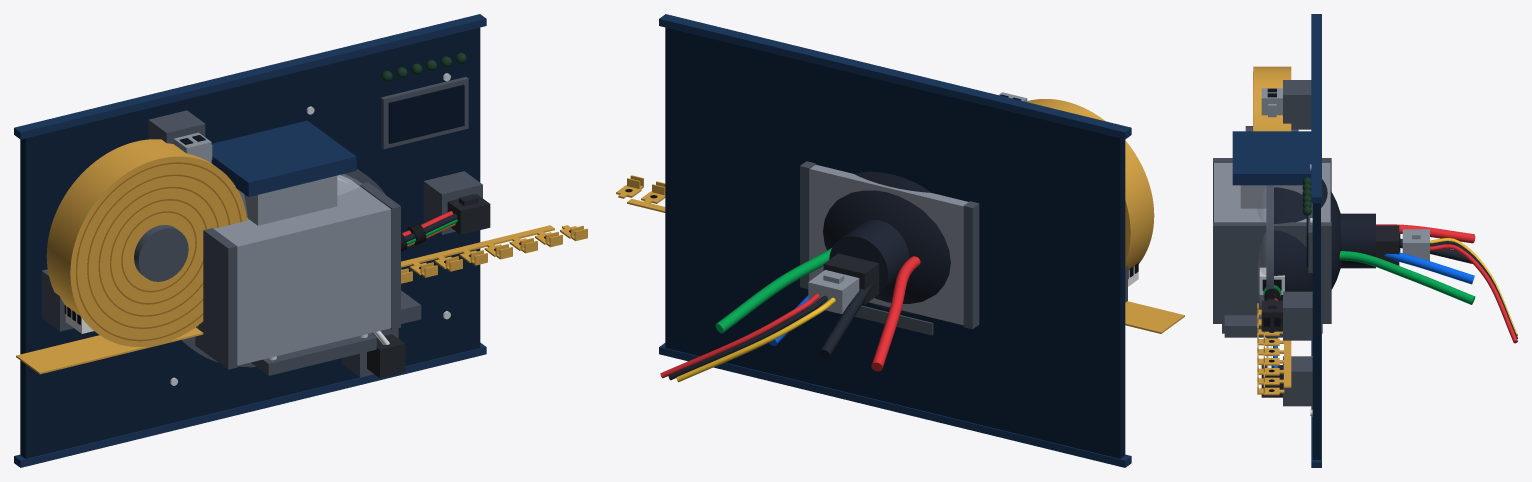
The model's file is daepl-story.glb.
The picture shows the model from 3 angles, left to right: view 1: azimuth 30°, elevation 25°; view 2: azimuth 150°, elevation 25°; view 3: azimuth 270°, elevation 25°; orthographic projection. The views are drawn at different scales.
Parts seen in each view (by area): view 1: tester, coil, mould_a, mould_b, ram, strip_feed, screen, die_bottom, conn_meter, conn_winker, conn_lamp, bezel; view 2: tester, lamp_shell, mould_a, lamp_plug, pins, mould_b, coil, strip_feed, die_bottom; view 3: tester, mould_b, lamp_shell, ram, pins, lamp_plug, strip_feed, coil, mould_a, anvil, bezel, conn_meter (+4 smaller).
Boxes of the visible parts, x1=… form: tester: x1=14, y1=14, x2=486, y2=467; coil: x1=46, y1=139, x2=246, y2=346; mould_a: x1=195, y1=216, x2=313, y2=369; mould_b: x1=298, y1=175, x2=400, y2=346; ram: x1=211, y1=120, x2=356, y2=225; strip_feed: x1=16, y1=225, x2=587, y2=374; screen: x1=381, y1=77, x2=468, y2=149; die_bottom: x1=251, y1=333, x2=376, y2=375; conn_meter: x1=447, y1=194, x2=490, y2=234; conn_winker: x1=367, y1=334, x2=405, y2=378; conn_lamp: x1=173, y1=132, x2=212, y2=163; bezel: x1=181, y1=169, x2=385, y2=367; tester: x1=659, y1=14, x2=1131, y2=467; lamp_shell: x1=823, y1=171, x2=950, y2=313; mould_a: x1=887, y1=186, x2=979, y2=329; lamp_plug: x1=660, y1=270, x2=859, y2=382; pins: x1=715, y1=247, x2=920, y2=371; mould_b: x1=800, y1=161, x2=888, y2=306; coil: x1=1027, y1=99, x2=1154, y2=270; strip_feed: x1=616, y1=175, x2=1184, y2=333; die_bottom: x1=855, y1=305, x2=933, y2=335; tester: x1=1283, y1=14, x2=1321, y2=467; mould_b: x1=1213, y1=193, x2=1331, y2=323; lamp_shell: x1=1274, y1=179, x2=1400, y2=300; ram: x1=1232, y1=131, x2=1311, y2=208; pins: x1=1339, y1=224, x2=1475, y2=304; lamp_plug: x1=1402, y1=229, x2=1517, y2=343; strip_feed: x1=1257, y1=303, x2=1291, y2=395; coil: x1=1245, y1=66, x2=1298, y2=131; mould_a: x1=1213, y1=158, x2=1331, y2=222; anvil: x1=1224, y1=315, x2=1282, y2=337; bezel: x1=1266, y1=185, x2=1273, y2=290; conn_meter: x1=1261, y1=299, x2=1282, y2=331.
Size of the model in its own units: 4.86 by 2.82 by 2.88.
